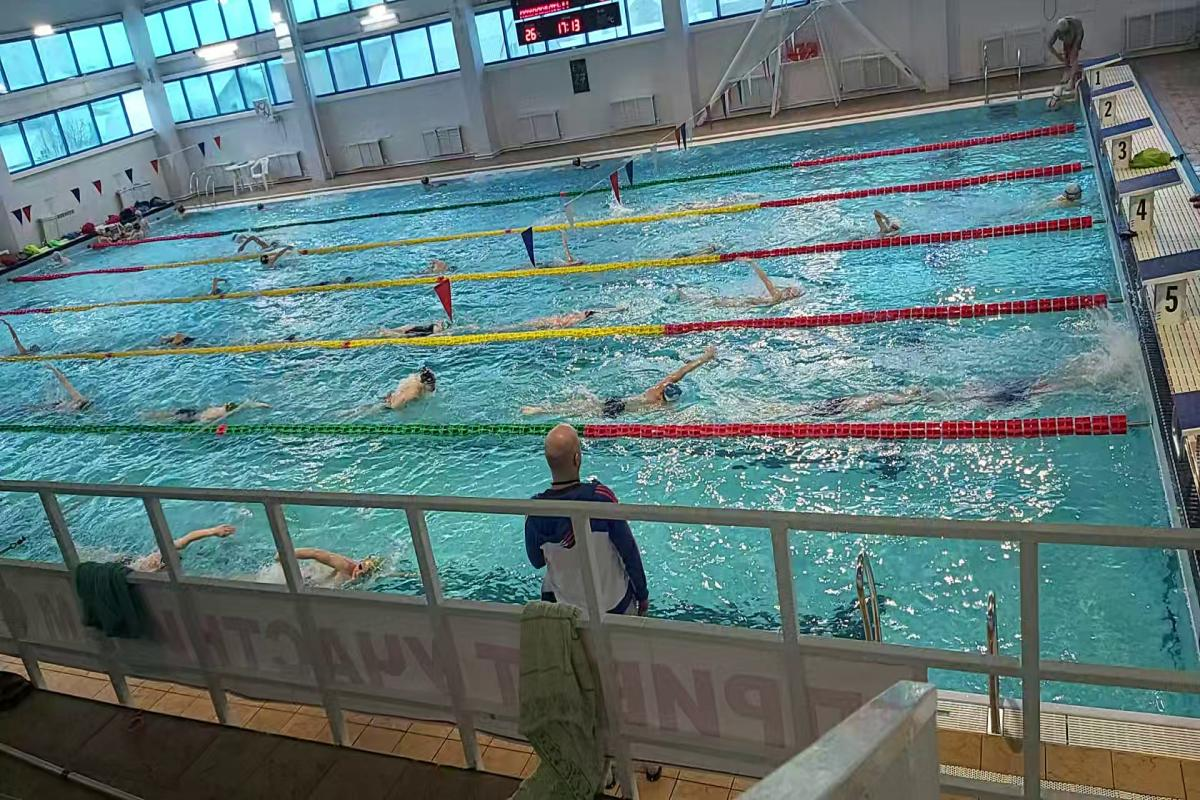swimmer: (544, 358, 695, 416), (91, 520, 232, 570), (256, 541, 382, 594), (373, 366, 467, 422), (705, 271, 831, 305), (756, 381, 862, 421), (514, 295, 624, 329), (364, 312, 470, 341), (161, 397, 270, 425), (33, 377, 105, 416), (537, 240, 586, 270), (147, 328, 215, 348), (248, 252, 296, 280), (8, 335, 59, 356)
